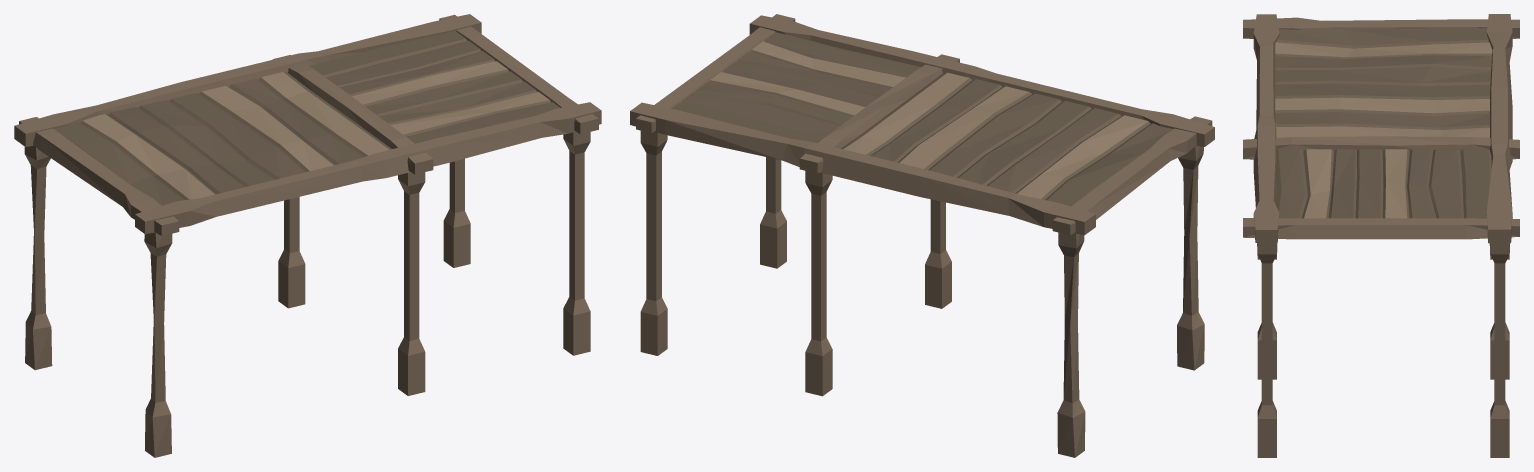
The model's file is SM_Bld_Shanty_Deck_01.glb.
The picture shows the model from 3 angles, left to right: view 1: azimuth 30°, elevation 25°; view 2: azimuth 150°, elevation 25°; view 3: azimuth 270°, elevation 25°; orthographic projection. The views are drawn at different scales.
Visible parts, largest first — view 1: SM_Bld_Shanty_Deck_01_part00; view 2: SM_Bld_Shanty_Deck_01_part00; view 3: SM_Bld_Shanty_Deck_01_part00.
Boxes of the visible parts, <box> form: SM_Bld_Shanty_Deck_01_part00: <box>14,14,601,457</box>; SM_Bld_Shanty_Deck_01_part00: <box>630,14,1214,457</box>; SM_Bld_Shanty_Deck_01_part00: <box>1243,14,1519,457</box>.
Bounding box in the file's own units: 5 × 2.55 × 2.71.
1 material, 1 textured.
